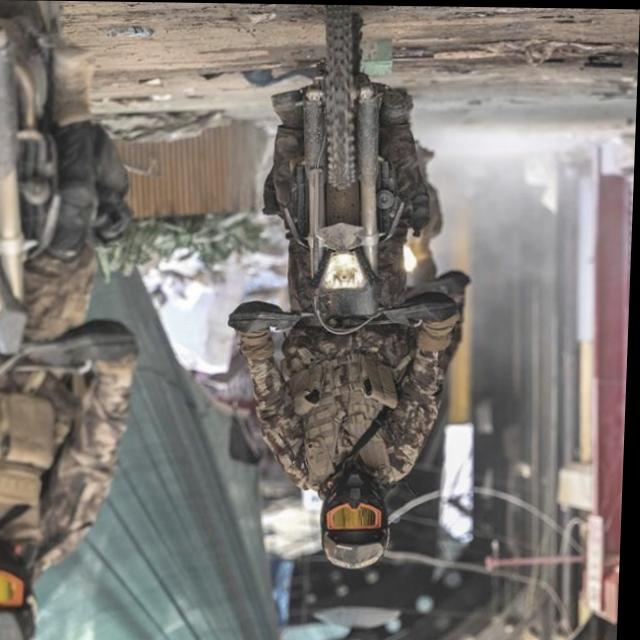poh_personel: (234, 79, 465, 570), (0, 32, 154, 640)
